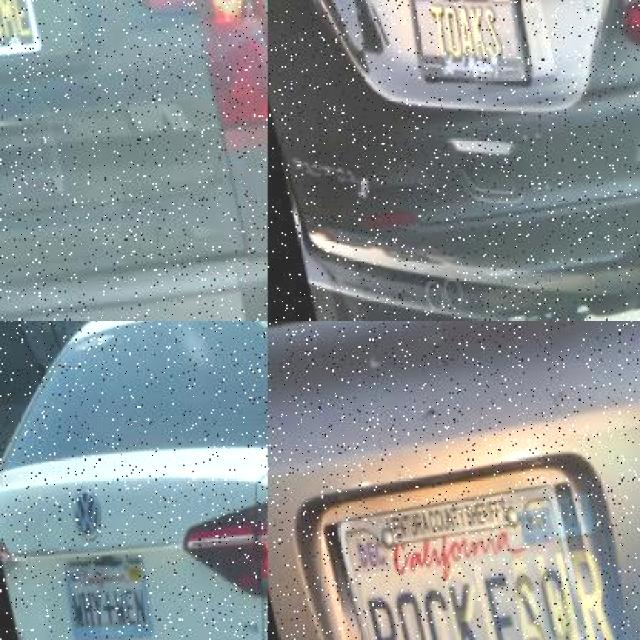licenseplate: (332, 461, 609, 640), (398, 0, 532, 92), (62, 540, 158, 640), (0, 0, 65, 68)
